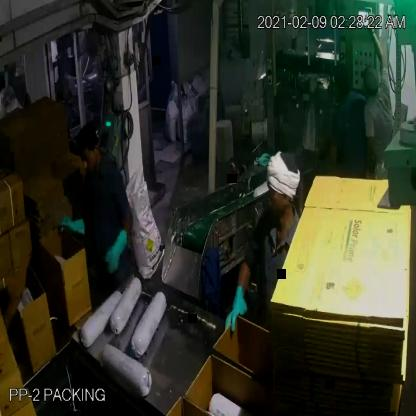glove: (100, 228, 134, 276), (222, 280, 247, 340), (52, 208, 92, 245)
no_glove: (366, 14, 386, 78), (6, 273, 20, 338)
